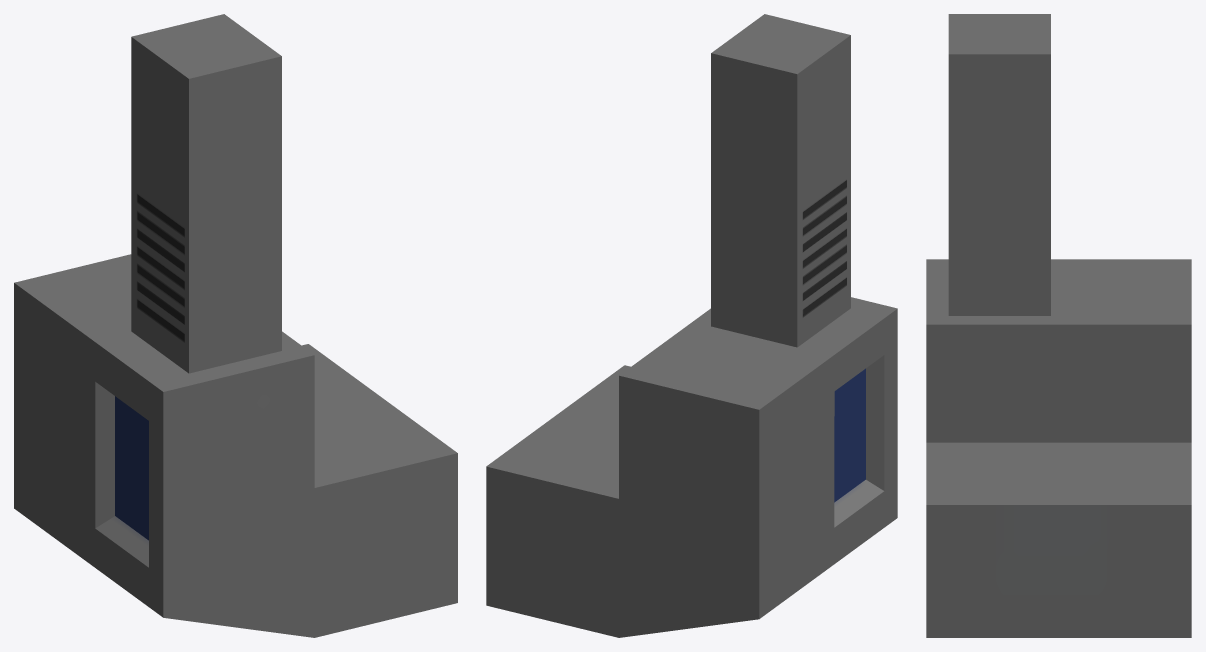
The picture shows the model from 3 angles, left to right: view 1: azimuth 30°, elevation 25°; view 2: azimuth 150°, elevation 25°; view 3: azimuth 270°, elevation 25°; orthographic projection. The views are drawn at different scales.
Parts seen in each view (by area): view 1: SM_B_Part; view 2: SM_B_Part; view 3: SM_B_Part.
Boxes of the visible parts, x1,y1,x2,y2 form: SM_B_Part: (14, 14, 457, 637); SM_B_Part: (486, 14, 897, 637); SM_B_Part: (926, 14, 1191, 637).
Bounding box in the file's own units: 209 × 183 × 391.
1 material, 1 textured.
